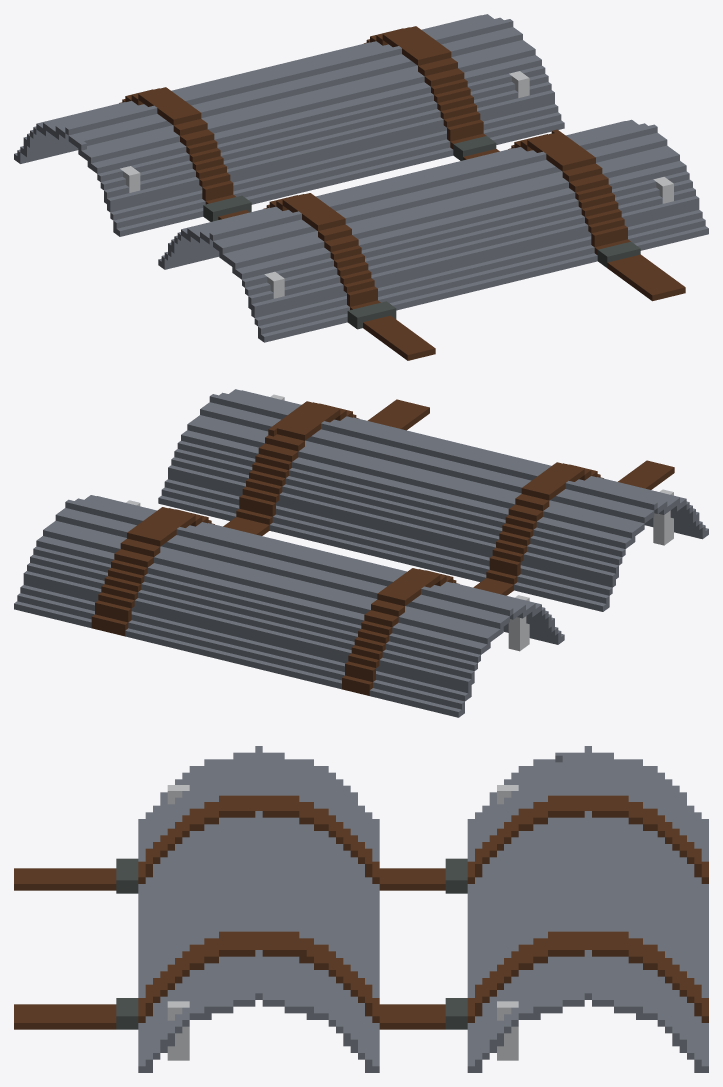
File: ch_legguard_metal_sheets_greaves.glb
3 renders of one model, top to bottom at view 1: azimuth 30°, elevation 25°; view 2: azimuth 150°, elevation 25°; view 3: azimuth 270°, elevation 25°, orthographic. The views are drawn at different scales.
Visible parts, largest first — view 1: ch_legguard_metal_sheets_greaves:compound; view 2: ch_legguard_metal_sheets_greaves:compound; view 3: ch_legguard_metal_sheets_greaves:compound.
Boxes of the visible parts, x1,y1,x2,y2 form: ch_legguard_metal_sheets_greaves:compound: (14, 14, 708, 360); ch_legguard_metal_sheets_greaves:compound: (14, 389, 708, 717); ch_legguard_metal_sheets_greaves:compound: (14, 746, 708, 1072).
Bounding box in the file's own units: 0.32 × 0.048 × 0.38.
